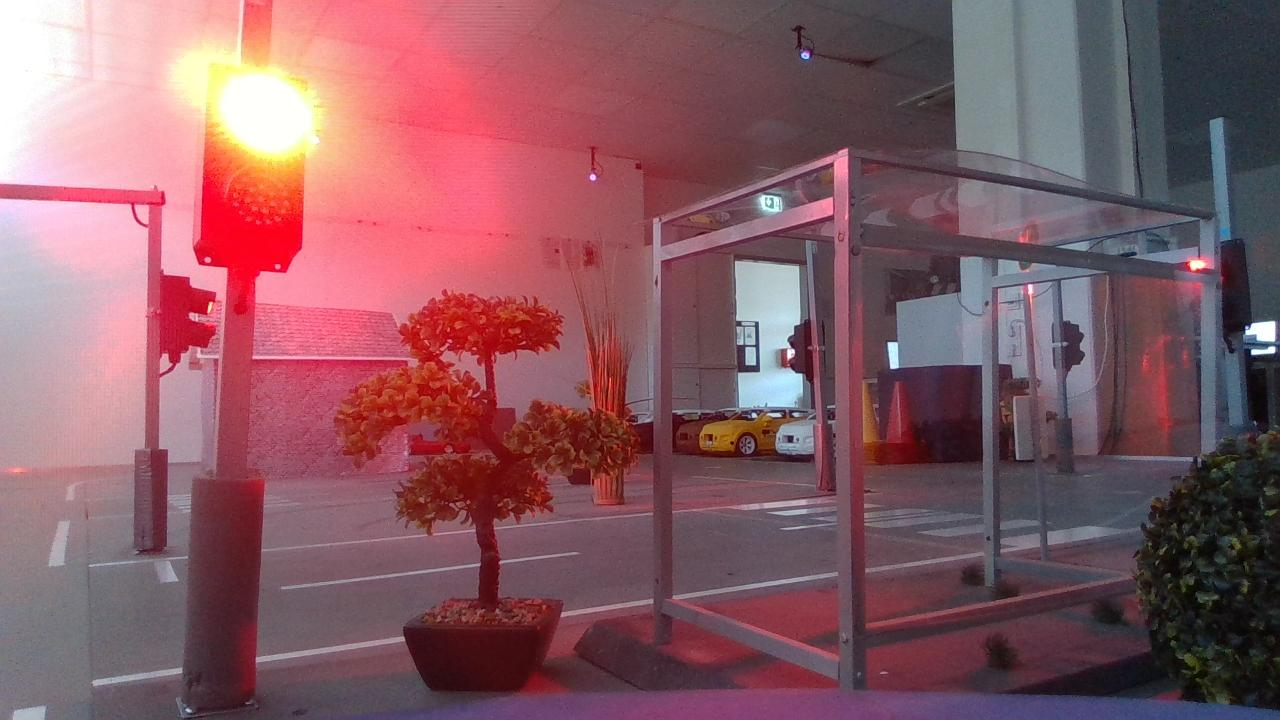traffic_light_red: (168, 44, 335, 292)
